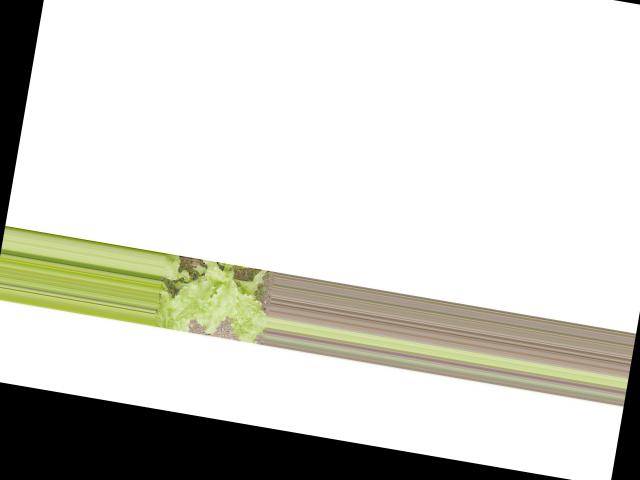lettuce: (153, 248, 275, 341)
